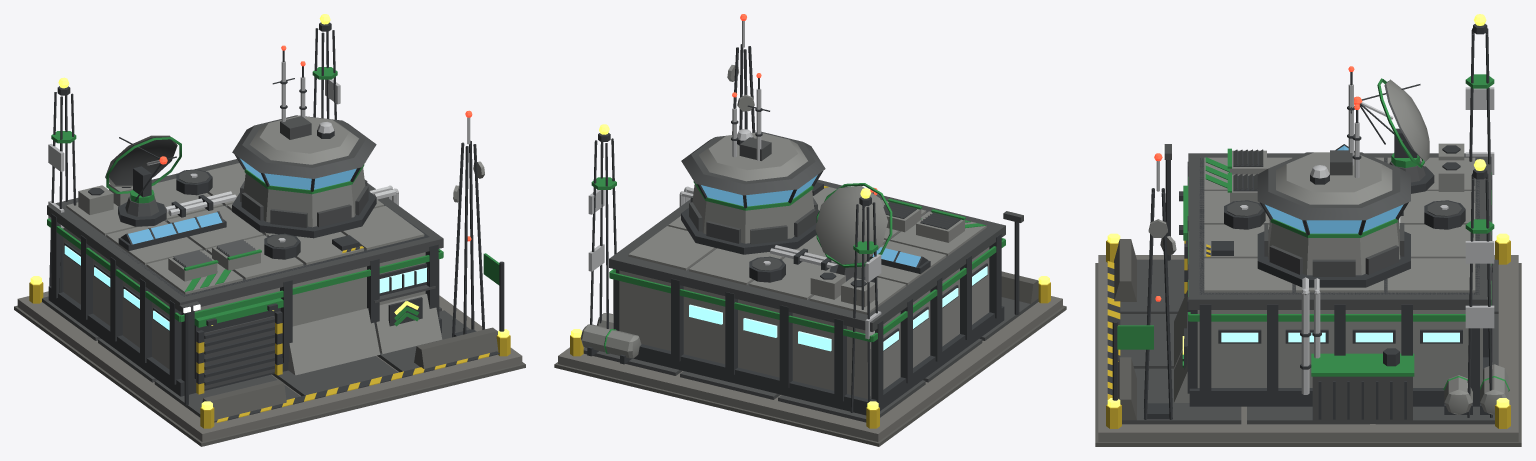
3 views of the same model, side by side, from view 1: azimuth 30°, elevation 25°; view 2: azimuth 150°, elevation 25°; view 3: azimuth 270°, elevation 25° (orthographic). The views are drawn at different scales.
Visible parts, largest first — view 1: CommandCenter_LOD1_Walls, CommandCenter_LOD1_Details, CommandCenter_LOD1_Foundation, CommandCenter_LOD1_Frame, CommandCenter_LOD1_spin; view 2: CommandCenter_LOD1_Walls, CommandCenter_LOD1_Details, CommandCenter_LOD1_Frame, CommandCenter_LOD1_Foundation, CommandCenter_LOD1_spin; view 3: CommandCenter_LOD1_Walls, CommandCenter_LOD1_Details, CommandCenter_LOD1_Foundation, CommandCenter_LOD1_Frame, CommandCenter_LOD1_spin.
Boxes of the visible parts, left/top/right/bottom form: CommandCenter_LOD1_Walls: left=47, top=115, right=443, bottom=389; CommandCenter_LOD1_Details: left=48, top=14, right=504, bottom=420; CommandCenter_LOD1_Foundation: left=14, top=276, right=525, bottom=446; CommandCenter_LOD1_Frame: left=48, top=140, right=484, bottom=396; CommandCenter_LOD1_spin: left=105, top=135, right=181, bottom=203; CommandCenter_LOD1_Walls: left=609, top=131, right=1005, bottom=398; CommandCenter_LOD1_Details: left=581, top=14, right=1038, bottom=412; CommandCenter_LOD1_Frame: left=613, top=44, right=1004, bottom=415; CommandCenter_LOD1_Foundation: left=554, top=276, right=1066, bottom=446; CommandCenter_LOD1_spin: left=815, top=183, right=892, bottom=267; CommandCenter_LOD1_Walls: left=1174, top=152, right=1491, bottom=402; CommandCenter_LOD1_Details: left=1112, top=14, right=1509, bottom=423; CommandCenter_LOD1_Foundation: left=1095, top=233, right=1521, bottom=446; CommandCenter_LOD1_Frame: left=1144, top=162, right=1492, bottom=419; CommandCenter_LOD1_spin: left=1354, top=78, right=1429, bottom=167.
Bounding box in the file's own units: 2.98 × 2.38 × 2.98.
